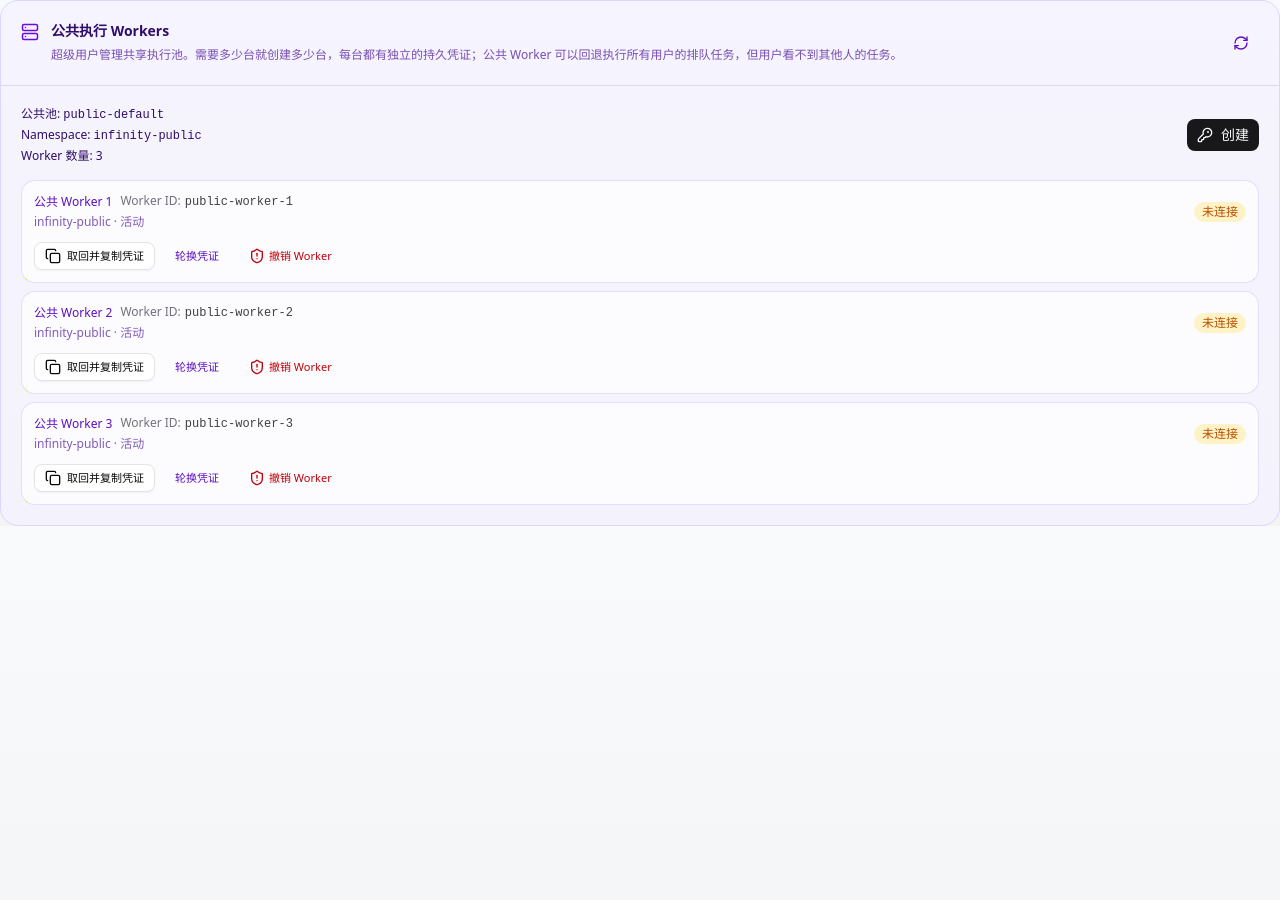
Test case: PublicWorkerAdminPanel › keeps the create action available after three existing Workers
Expected: the text "公共 Worker 3" is shown, [34,416,112,432]
Step 1. Click the button "创建" → point(1223, 135), box [1187,119,1259,151]
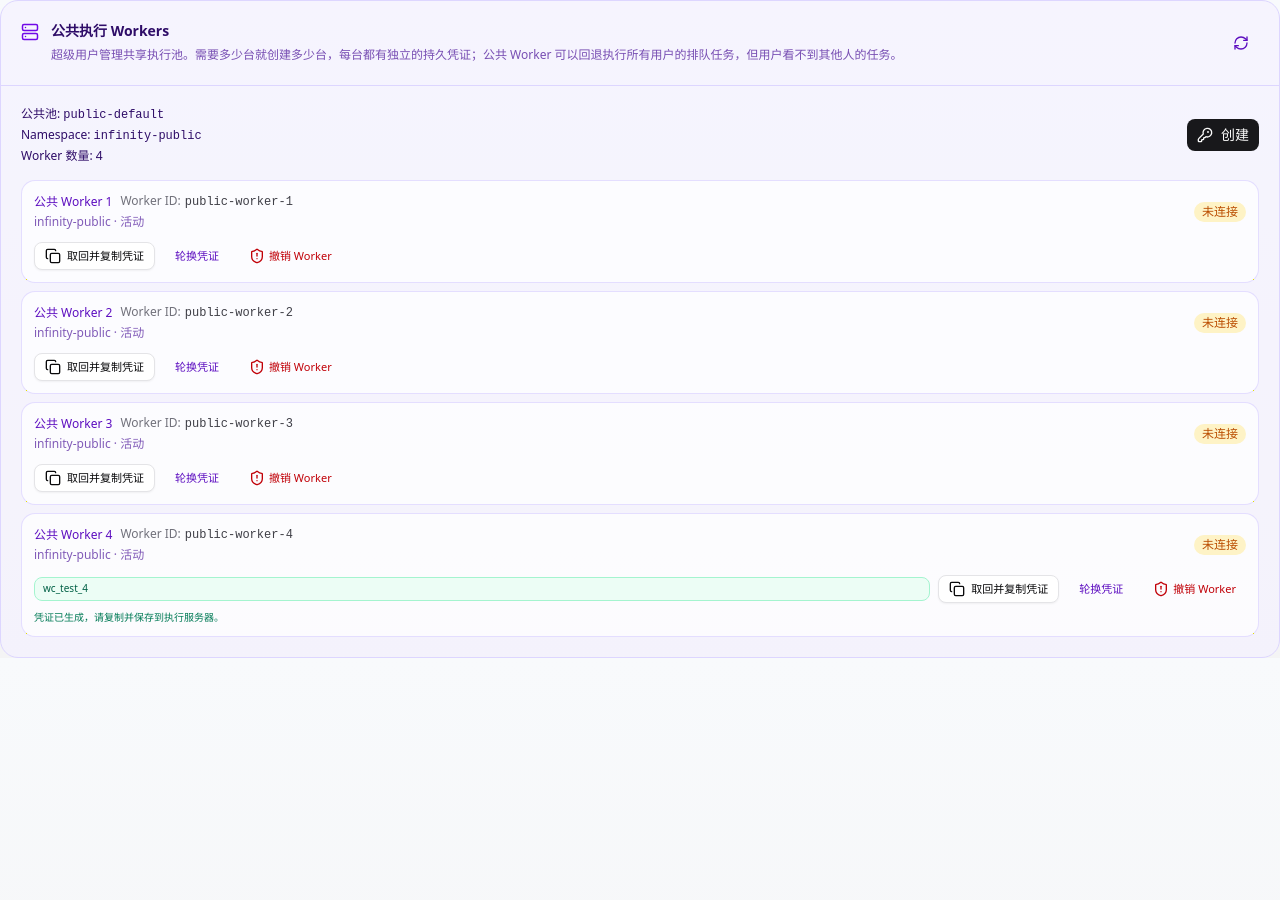
Expected: the text "公共 Worker 4" is shown, [34,526,112,542]
